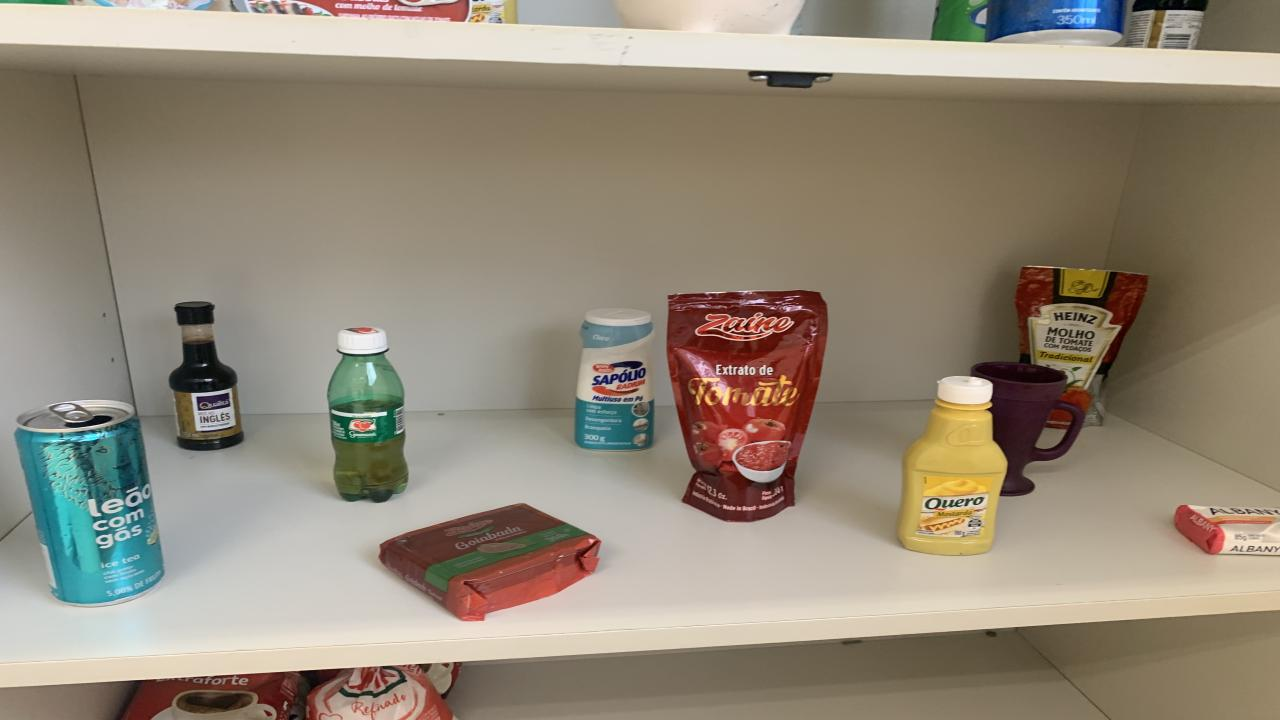Cleaner-Cleanup_Items: (575, 308, 655, 450)
English_Sauce-Pantry_Items: (170, 302, 242, 450), (1125, 0, 1208, 49)
Flakes-Snacks: (68, 0, 215, 11)
Guarana-Drinks: (328, 326, 408, 502)
Guava-Snacks: (380, 504, 600, 621)
Mustard-Pantry_Items: (898, 377, 1008, 555), (465, 0, 518, 24)
Pig_Safe-Miscellaneous: (615, 0, 805, 34)
Pringles-Snacks: (932, 0, 988, 41)
Soap-Cleanup_Items: (1175, 506, 1280, 555)
Tea-Drinks: (15, 399, 165, 606)
Tomato_Sauce-Pantry_Items: (668, 291, 828, 521), (1015, 266, 1148, 426)
Tonic-Drinks: (985, 0, 1125, 47)
Tuna_Can-Pantry_Items: (232, 0, 470, 21)
